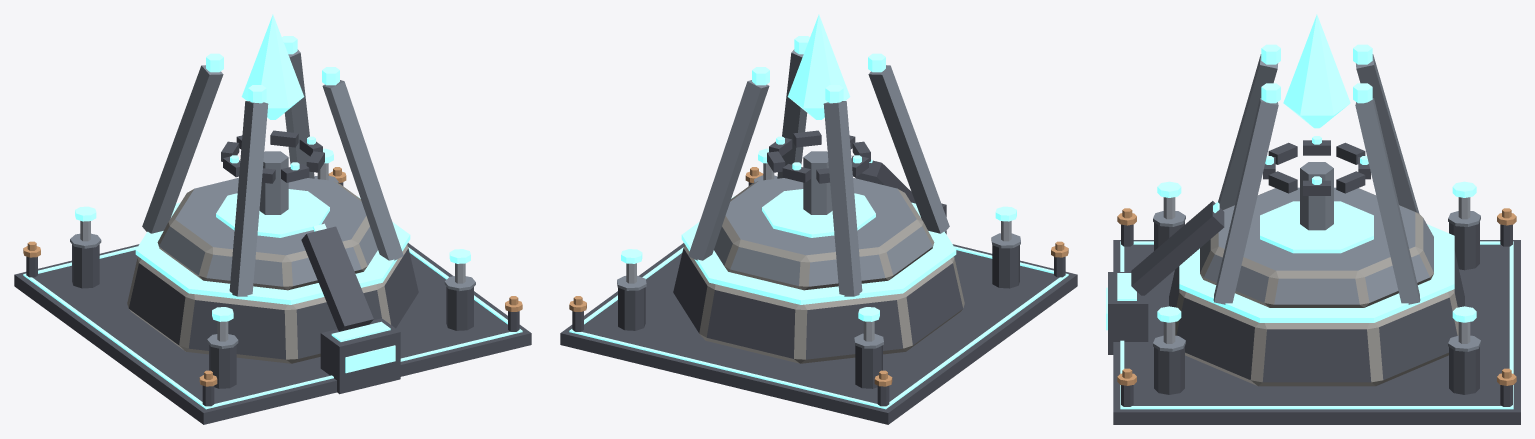
File: extrator_cristal_sem_textura.glb
3 renders of one model, left to right at view 1: azimuth 30°, elevation 25°; view 2: azimuth 150°, elevation 25°; view 3: azimuth 270°, elevation 25°, orthographic. The views are drawn at different scales.
Visible parts, largest first — view 1: extrator_cristal_corpo, extrator_cristal_cristal, extrator_cristal_hastes, extrator_cristal_pistao0, extrator_cristal_pistao1, extrator_cristal_pistao2; view 2: extrator_cristal_corpo, extrator_cristal_cristal, extrator_cristal_hastes, extrator_cristal_pistao1, extrator_cristal_pistao0, extrator_cristal_pistao3; view 3: extrator_cristal_corpo, extrator_cristal_cristal, extrator_cristal_hastes, extrator_cristal_pistao0, extrator_cristal_pistao1, extrator_cristal_pistao2, extrator_cristal_pistao3.
Boxes of the visible parts, left/top/right/bottom form: extrator_cristal_corpo: left=14, top=36, right=531, bottom=424; extrator_cristal_cristal: left=241, top=14, right=304, bottom=119; extrator_cristal_hastes: left=221, top=130, right=324, bottom=183; extrator_cristal_pistao0: left=212, top=307, right=233, bottom=341; extrator_cristal_pistao1: left=75, top=206, right=96, bottom=241; extrator_cristal_pistao2: left=449, top=249, right=470, bottom=283; extrator_cristal_corpo: left=560, top=36, right=1077, bottom=424; extrator_cristal_cristal: left=787, top=14, right=850, bottom=119; extrator_cristal_hastes: left=767, top=130, right=870, bottom=183; extrator_cristal_pistao1: left=858, top=307, right=879, bottom=341; extrator_cristal_pistao0: left=995, top=206, right=1016, bottom=241; extrator_cristal_pistao3: left=621, top=249, right=642, bottom=283; extrator_cristal_corpo: left=1106, top=44, right=1520, bottom=424; extrator_cristal_cristal: left=1283, top=14, right=1350, bottom=128; extrator_cristal_hastes: left=1263, top=136, right=1370, bottom=195; extrator_cristal_pistao0: left=1157, top=181, right=1181, bottom=219; extrator_cristal_pistao1: left=1452, top=181, right=1476, bottom=219; extrator_cristal_pistao2: left=1157, top=306, right=1181, bottom=343; extrator_cristal_pistao3: left=1452, top=306, right=1476, bottom=343.
Bounding box in the file's own units: 2.9 × 2.55 × 2.95.
